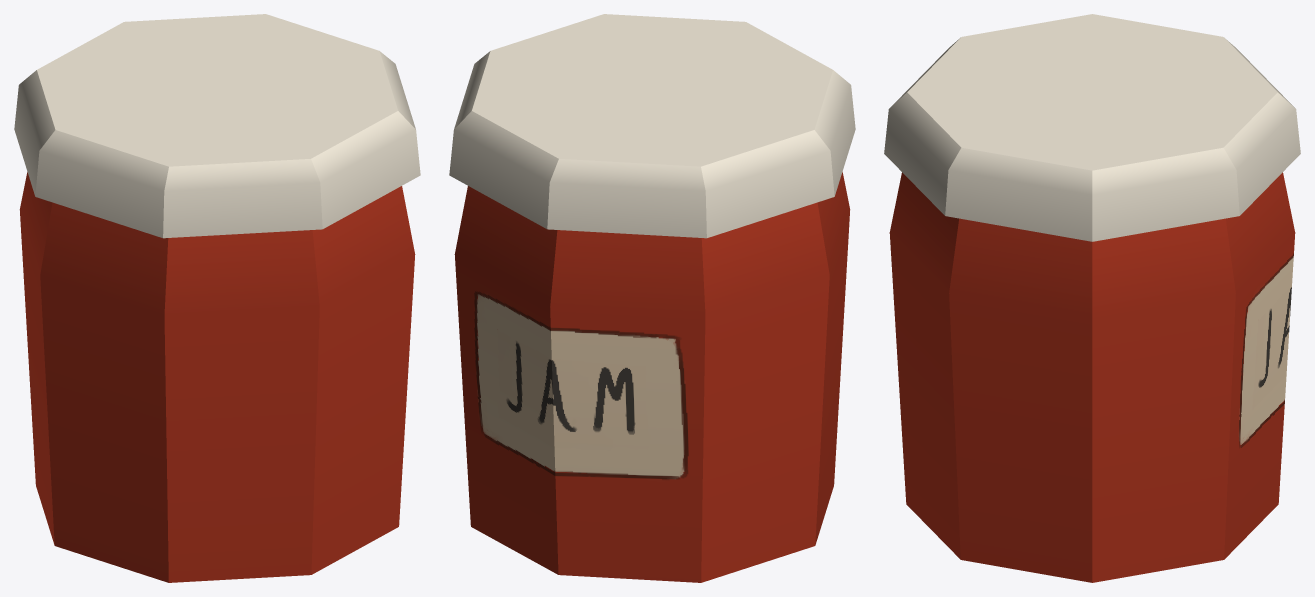
File: jam.fbx
3 views of the same model, side by side, from view 1: azimuth 30°, elevation 25°; view 2: azimuth 150°, elevation 25°; view 3: azimuth 270°, elevation 25° (orthographic).
Visible parts, largest first — view 1: jam; view 2: jam; view 3: jam.
Part boxes in pixels (<box>): jam: <box>14,14,420,582</box>; jam: <box>449,14,855,582</box>; jam: <box>884,14,1300,582</box>.
Size of the model in its own units: 27.18 by 29.64 by 27.18.
1 material, 1 textured.
